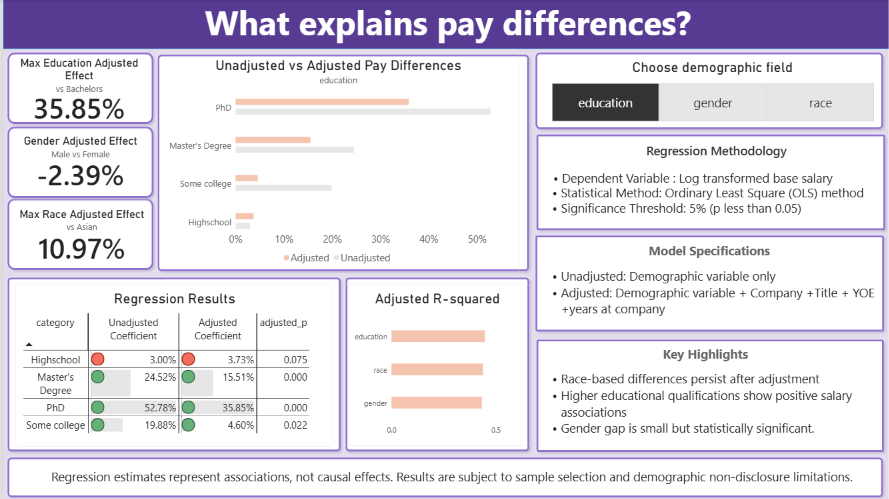

What the dashboard file says about the page in this screenshot:
{"tool":"powerbi","page":{"name":"Adjusted Compensation Analysis","canvas":[1920,1080],"ordinal":1},"visuals":[{"type":"shape","box":[0.2,421.6,332.8,172.1],"z":0},{"type":"shape","box":[0.2,264.8,332.8,172.1],"z":1000},{"type":"shape","box":[0,106.6,332.8,172.1],"z":2000},{"type":"shape","box":[729.5,592.1,414.5,393.2],"z":3000},{"type":"shape","box":[1141.1,282.6,770.1,224.3],"z":4000},{"type":"shape","box":[324.5,108.9,819.5,485.5],"z":5000},{"type":"shape","box":[1139,105.7,768,183.4],"z":6000},{"type":"shape","box":[0,0,1918.4,106.6],"z":7000},{"type":"shape","box":[1139.2,499.7,769.7,225],"z":7500},{"type":"shape","box":[0,592.1,736.6,393.2],"z":8000},{"type":"clusteredBarChart","title":"Unadjusted vs Adjusted Pay Differences","fields":{"Category":["regrssion_results.category"],"Series":["regrssion_results.model"],"Y":["Sum(regrssion_results.effect in %)"]},"box":[332.2,109.8,780,482.4],"z":9000},{"type":"slicer","title":"Choose demographic field","fields":{"Values":["demographic_parameter.demographic_parameter"]},"box":[1162.9,130.3,734.2,135],"z":10000},{"type":"pivotTable","title":"Regression Results","fields":{"Rows":["regrssion_results.category"],"Values":["regrssion_results.Unadjusted Coefficient","regrssion_results.Adjusted Coefficient","regrssion_results.adjusted_p"]},"box":[26.1,613.4,685.9,352.1],"z":11000},{"type":"cardVisual","title":"Gender Adjusted Effect","fields":{"Data":["Max(Regression results gender.effect in %)"]},"box":[16.6,291.3,298.4,118.4],"z":12000},{"type":"cardVisual","title":"Max Education Adjusted Effect","fields":{"Data":["Max(Regression results education.effect in %)"]},"box":[9.5,123.2,310.3,137.4],"z":13000},{"type":"cardVisual","title":"Max Race Adjusted Effect","fields":{"Data":["Max(Regression results race.effect in %)"]},"box":[16.6,447.6,304.4,118.1],"z":14000},{"type":"barChart","title":"Adjusted R-squared","fields":{"Category":["adjusted_R_squared.demography"],"Y":["Avg(adjusted_R_squared.adj R-squared)"]},"box":[736.6,613.4,400.3,350.5],"z":15000},{"type":"textbox","box":[0,0,1918.4,106.6],"z":16000},{"type":"shape","box":[0,979.3,1906.5,104],"z":17000},{"type":"textbox","box":[1164.2,309.1,754,43.3],"z":18000},{"type":"textbox","box":[1164.9,366.7,718.3,47.5],"z":19000},{"type":"textbox","box":[1162.7,398,748.5,66.9],"z":20000},{"type":"textbox","box":[1162.9,523.4,720,180],"z":21000},{"type":"textbox","box":[1162.7,431.4,720.5,56.1],"z":22000},{"type":"textbox","box":[17.3,1011,1900.8,69.3],"z":23001},{"type":"shape","box":[1141.6,724.7,767.4,260.5],"z":23002},{"type":"textbox","box":[1162.9,746.1,703.4,217.9],"z":23003}]}

Visuals, with their boxes in screenshot pixels (x1, y1, x2, y2), scaled from the page's 1920x1080 canvas onto the 889x499 screenshot:
shape: (0, 195, 154, 274)
shape: (0, 122, 154, 202)
shape: (0, 49, 154, 129)
shape: (338, 274, 530, 455)
shape: (528, 131, 885, 234)
shape: (150, 50, 530, 275)
shape: (527, 49, 883, 134)
shape: (0, 0, 888, 49)
shape: (527, 231, 884, 335)
shape: (0, 274, 341, 455)
"Unadjusted vs Adjusted Pay Differences" clusteredBarChart: (154, 51, 515, 274)
"Choose demographic field" slicer: (538, 60, 878, 123)
"Regression Results" pivotTable: (12, 283, 330, 446)
"Gender Adjusted Effect" cardVisual: (8, 135, 146, 189)
"Max Education Adjusted Effect" cardVisual: (4, 57, 148, 120)
"Max Race Adjusted Effect" cardVisual: (8, 207, 149, 261)
"Adjusted R-squared" barChart: (341, 283, 526, 445)
textbox: (0, 0, 888, 49)
shape: (0, 452, 883, 498)
textbox: (539, 143, 888, 163)
textbox: (539, 169, 872, 191)
textbox: (538, 184, 885, 215)
textbox: (538, 242, 872, 325)
textbox: (538, 199, 872, 225)
textbox: (8, 467, 888, 498)
shape: (529, 335, 884, 455)
textbox: (538, 345, 864, 445)
